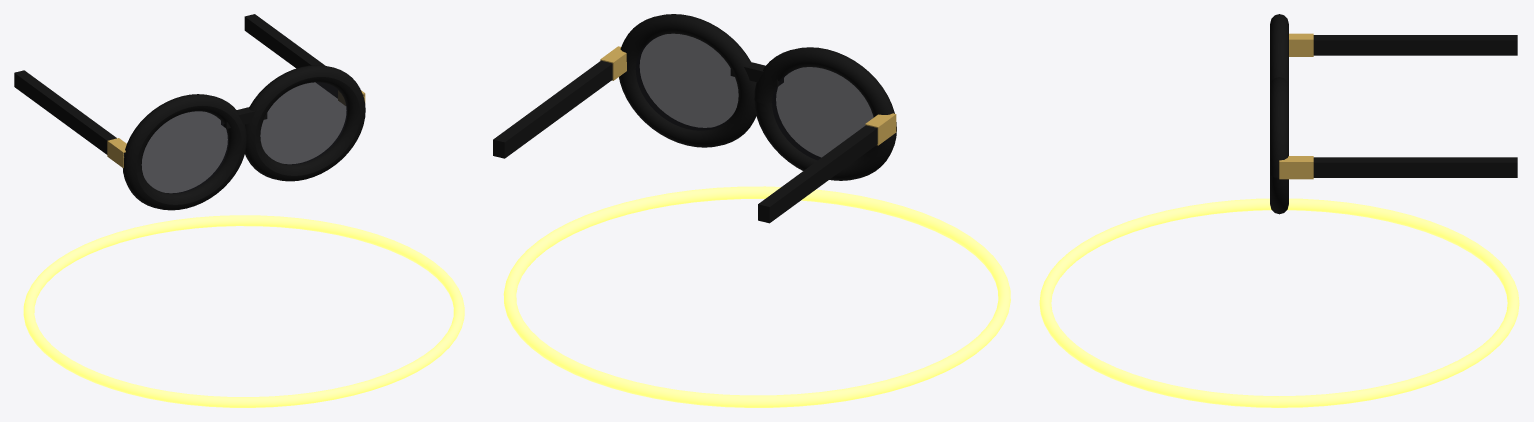
Rendered from ysl-sl1-sunglasses.glb.
3 renders of one model, left to right at view 1: azimuth 30°, elevation 25°; view 2: azimuth 150°, elevation 25°; view 3: azimuth 270°, elevation 25°, orthographic. The views are drawn at different scales.
Visible parts, largest first — view 1: Halo, RimL, RimR, LensR, LensL, ArmBar (×2), ArmTip; view 2: Halo, LensR, RimR, ArmBar (×2), RimL, LensL, ArmTip (×2); view 3: Halo, ArmBar (×2), RimR, ArmTip (×2), RimL.
Part boxes in pixels (bbox=[...]): Halo: bbox=[23, 215, 464, 407]; RimL: bbox=[123, 94, 246, 210]; RimR: bbox=[245, 65, 365, 181]; LensR: bbox=[260, 82, 347, 164]; LensL: bbox=[141, 111, 228, 193]; ArmBar (×2): bbox=[14, 14, 364, 163]; ArmTip: bbox=[107, 138, 126, 167]; Halo: bbox=[503, 186, 1010, 407]; LensR: bbox=[635, 33, 738, 130]; RimR: bbox=[619, 14, 756, 147]; ArmBar (×2): bbox=[493, 60, 877, 223]; RimL: bbox=[754, 47, 896, 180]; LensL: bbox=[772, 67, 873, 160]; ArmTip (×2): bbox=[600, 46, 896, 145]; Halo: bbox=[1039, 198, 1519, 407]; ArmBar (×2): bbox=[1313, 35, 1517, 177]; RimR: bbox=[1270, 77, 1288, 214]; ArmTip (×2): bbox=[1279, 33, 1313, 179]; RimL: bbox=[1270, 14, 1288, 85].
Bounding box in the file's own units: 0.1128 × 0.0661 × 0.1128.
